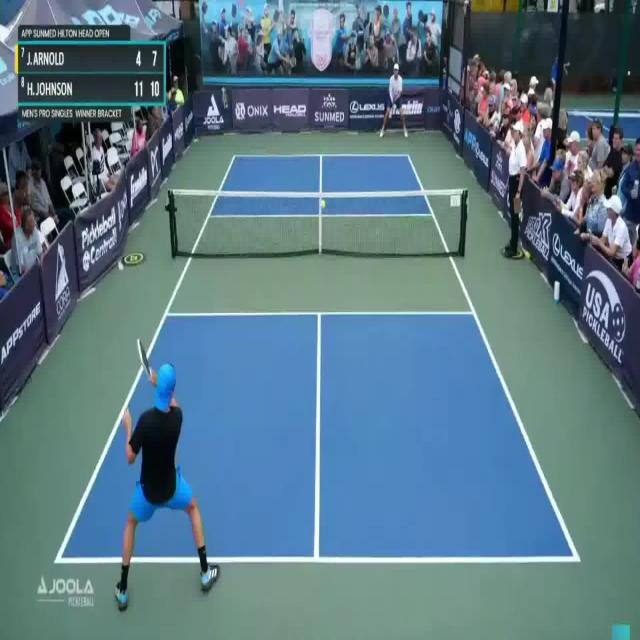Court: (55, 156, 578, 562)
ball: (317, 193, 330, 216)
